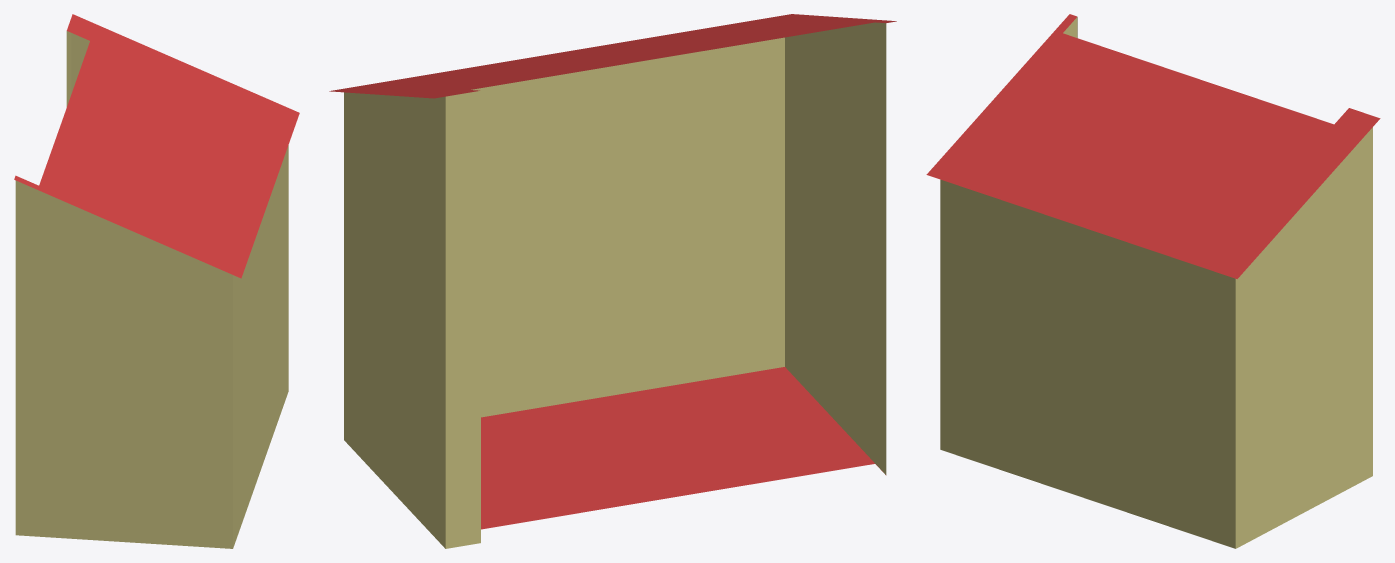
The picture shows the model from 3 angles, left to right: view 1: azimuth 30°, elevation 25°; view 2: azimuth 150°, elevation 25°; view 3: azimuth 270°, elevation 25°; orthographic projection. The views are drawn at different scales.
Size of the model in its own units: 10.77 by 11.44 by 10.02.
